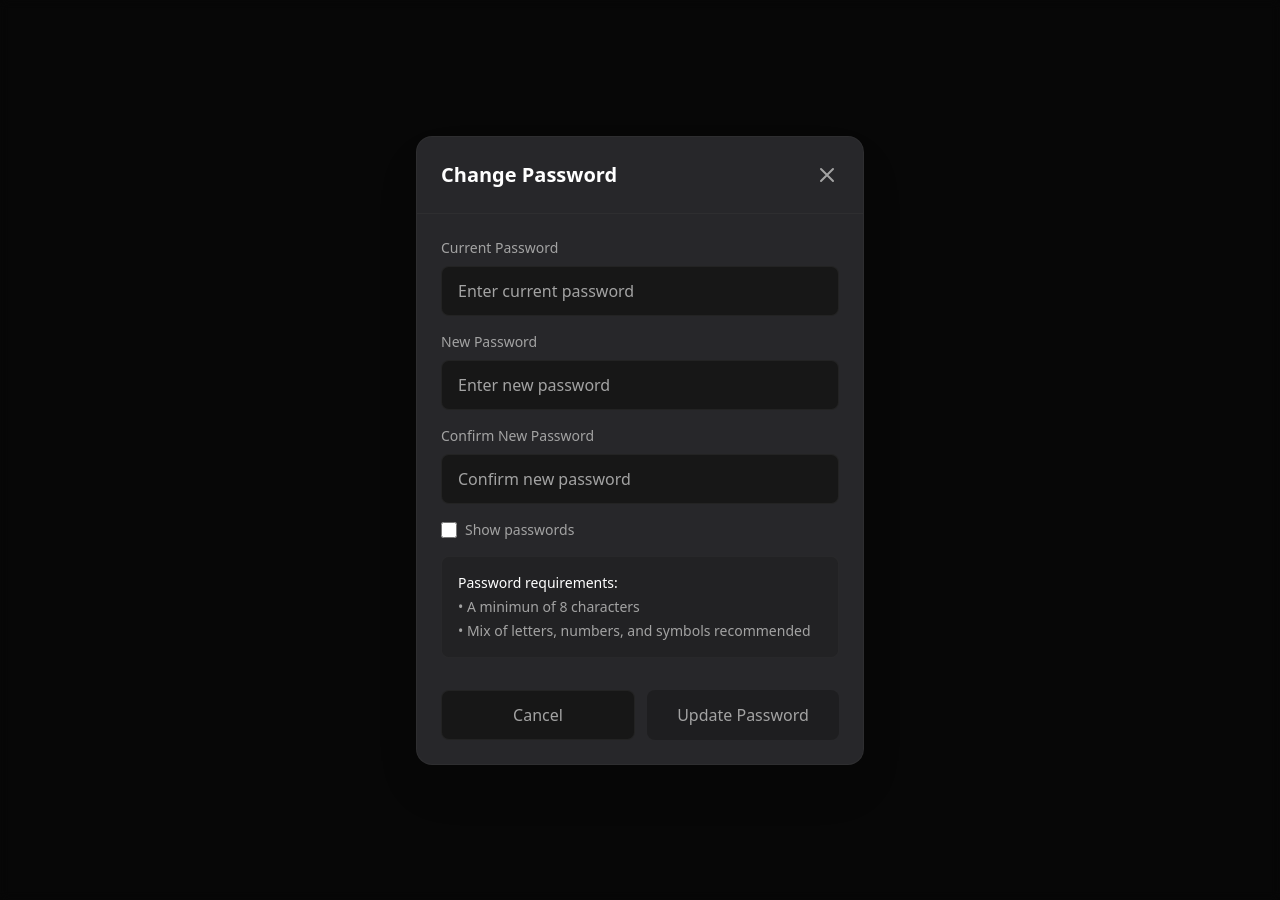
Test case: mismatched confirm shows error and prevents save
In the password field with placeholder "Enter current password": {"x": 640, "y": 290} x1=441 y1=266 x2=839 y2=316, type "oldpass123!"
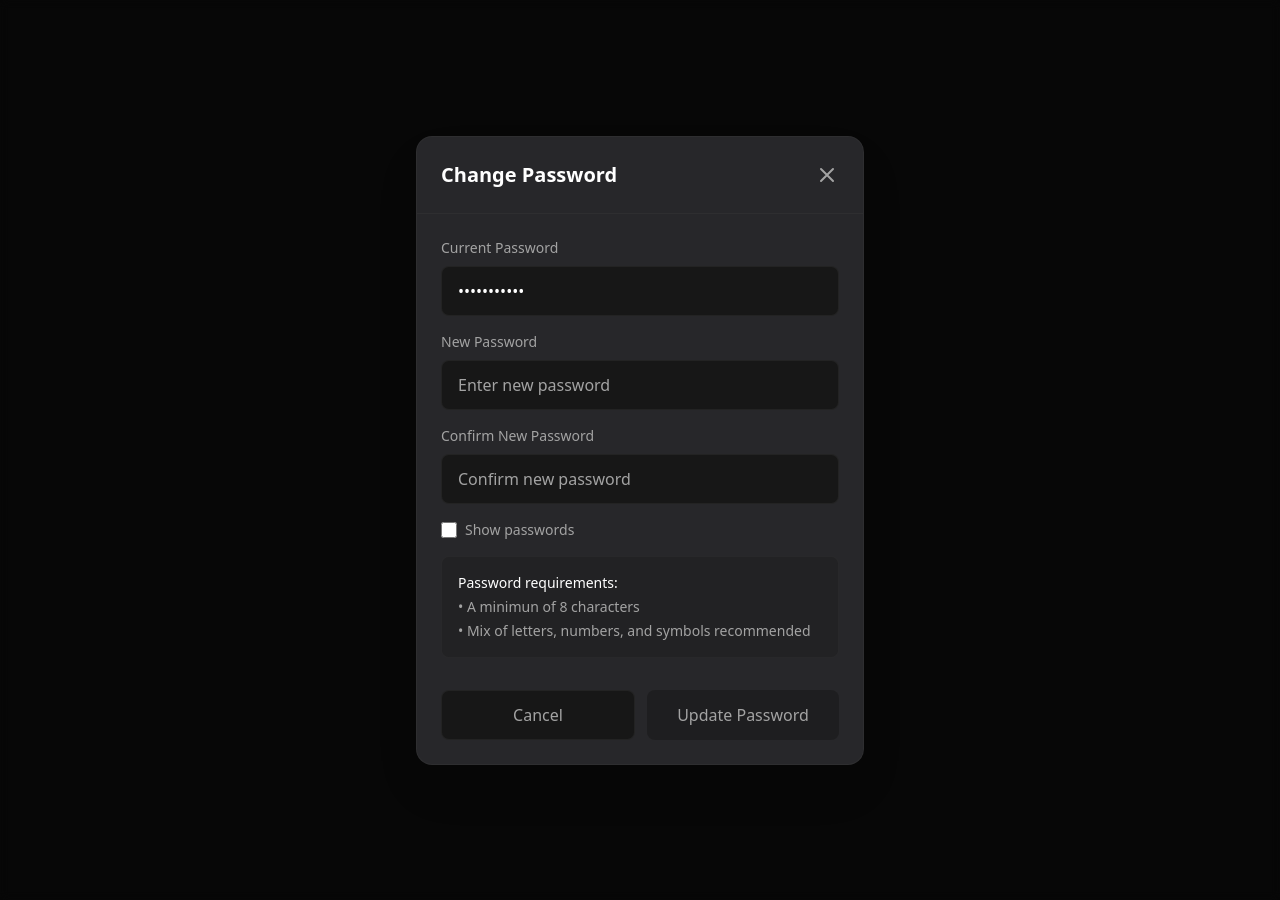
In the password field with placeholder "Enter new password": {"x": 640, "y": 384} x1=441 y1=360 x2=839 y2=410, type "newpass123!"
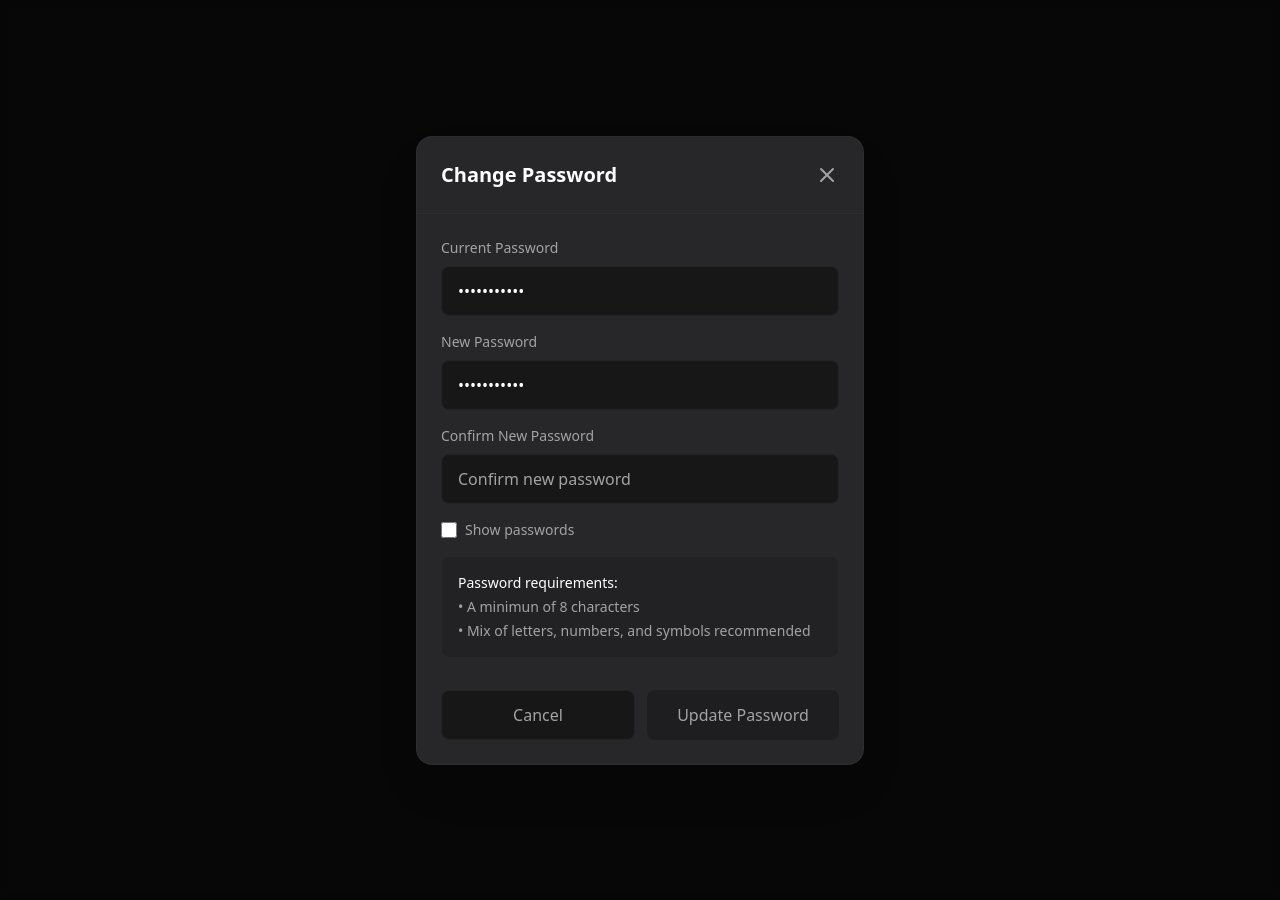
In the password field with placeholder "Confirm new password": {"x": 640, "y": 478} x1=441 y1=454 x2=839 y2=504, type "different"
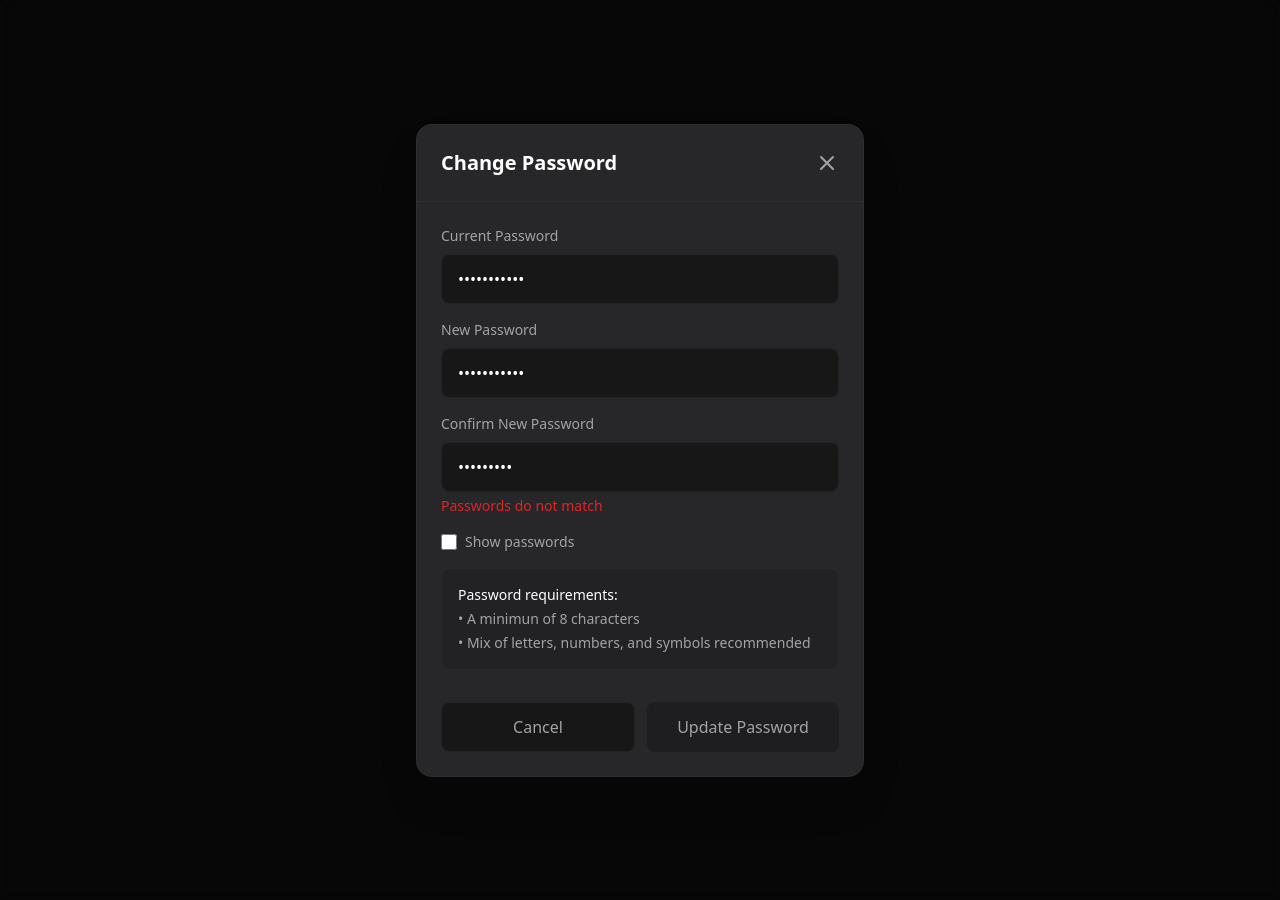
Expected: the button "Update Password" is disabled, x1=647 y1=702 x2=839 y2=752
Result: the text "Passwords do not match" is shown at x1=441 y1=496 x2=603 y2=514
